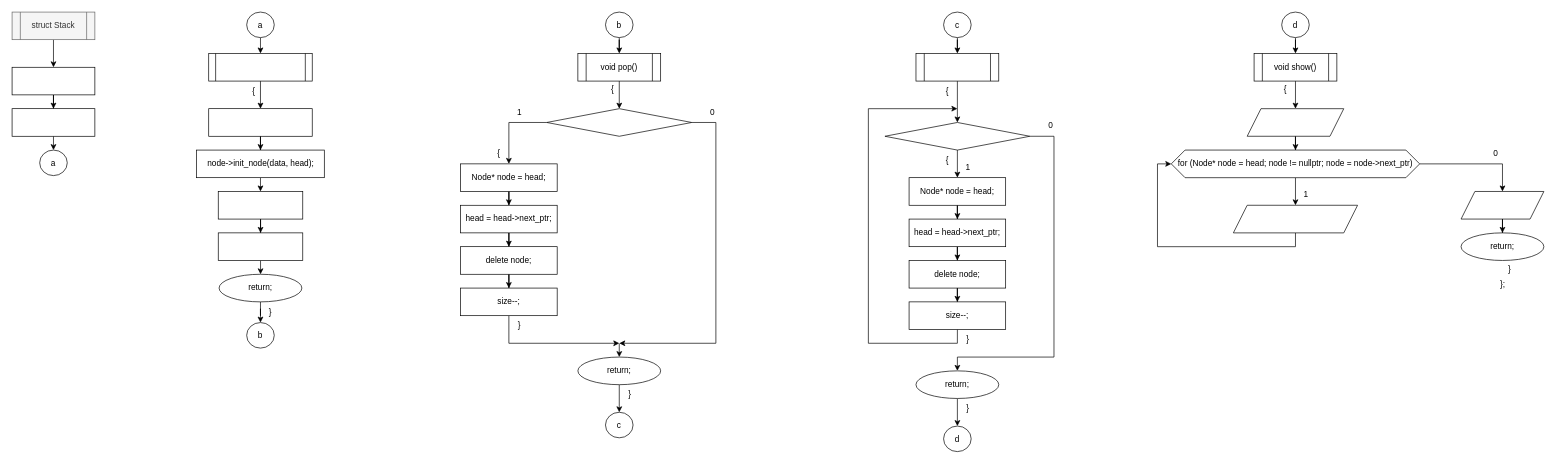
The diagram is 1556 pixels wide and 464 high, and some of its shapes have lost their labels. Each missing label, with the centre of its shape:
cout << "Стек: ";: the point at 1295,122
cout << endl;: the point at 1502,205
cout << node->data << ' ';: the point at 1295,219
head = node;: the point at 260,205
if (head != nullptr): the point at 619,122
int size = 0;: the point at 53,122
Node* head = nullptr;: the point at 53,81
Node* node = new Node;: the point at 260,122
size++;: the point at 260,246
void clear(): the point at 957,67
void push(char data): the point at 260,67
while (head != nullptr): the point at 957,136
